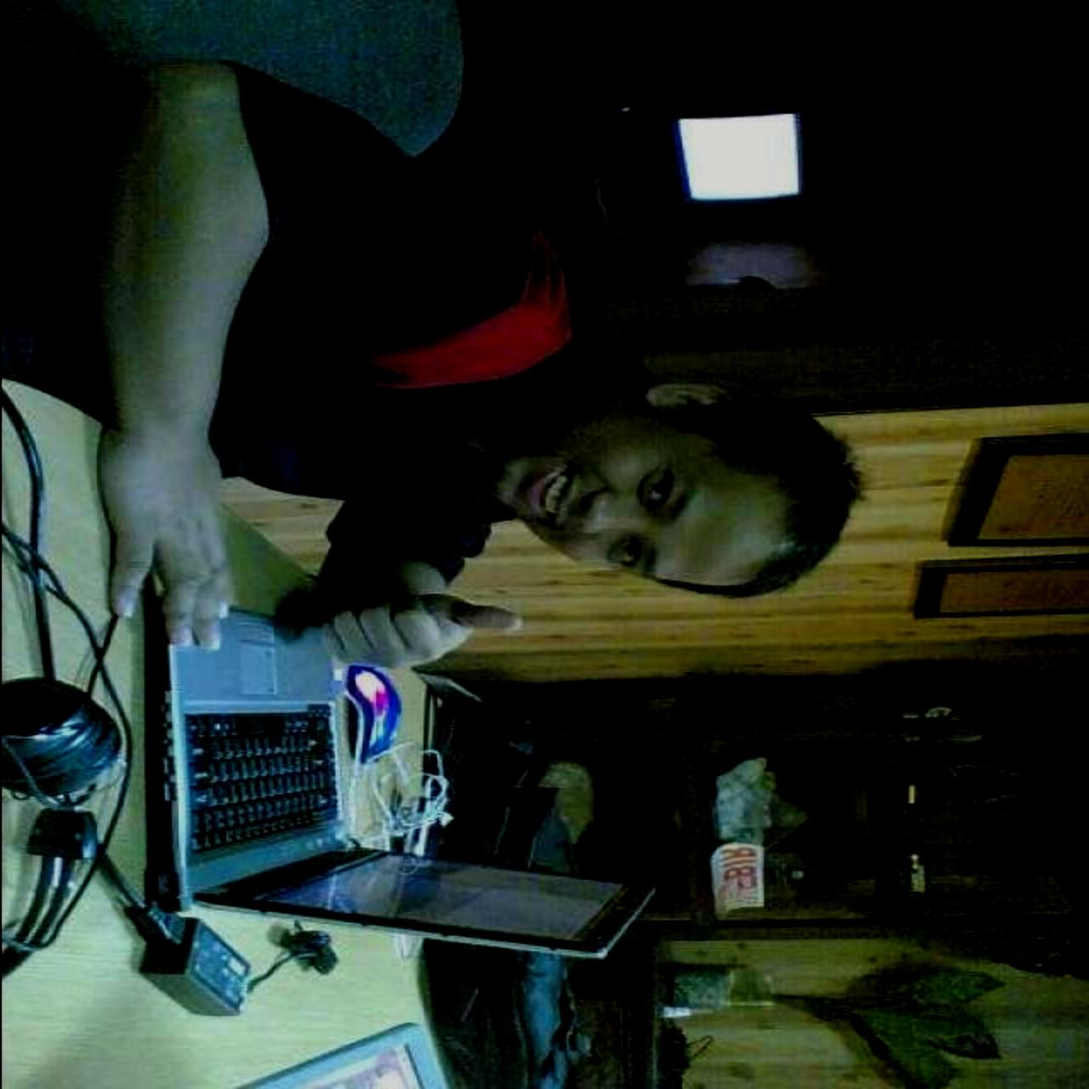laptop: (124, 585, 645, 1014)
